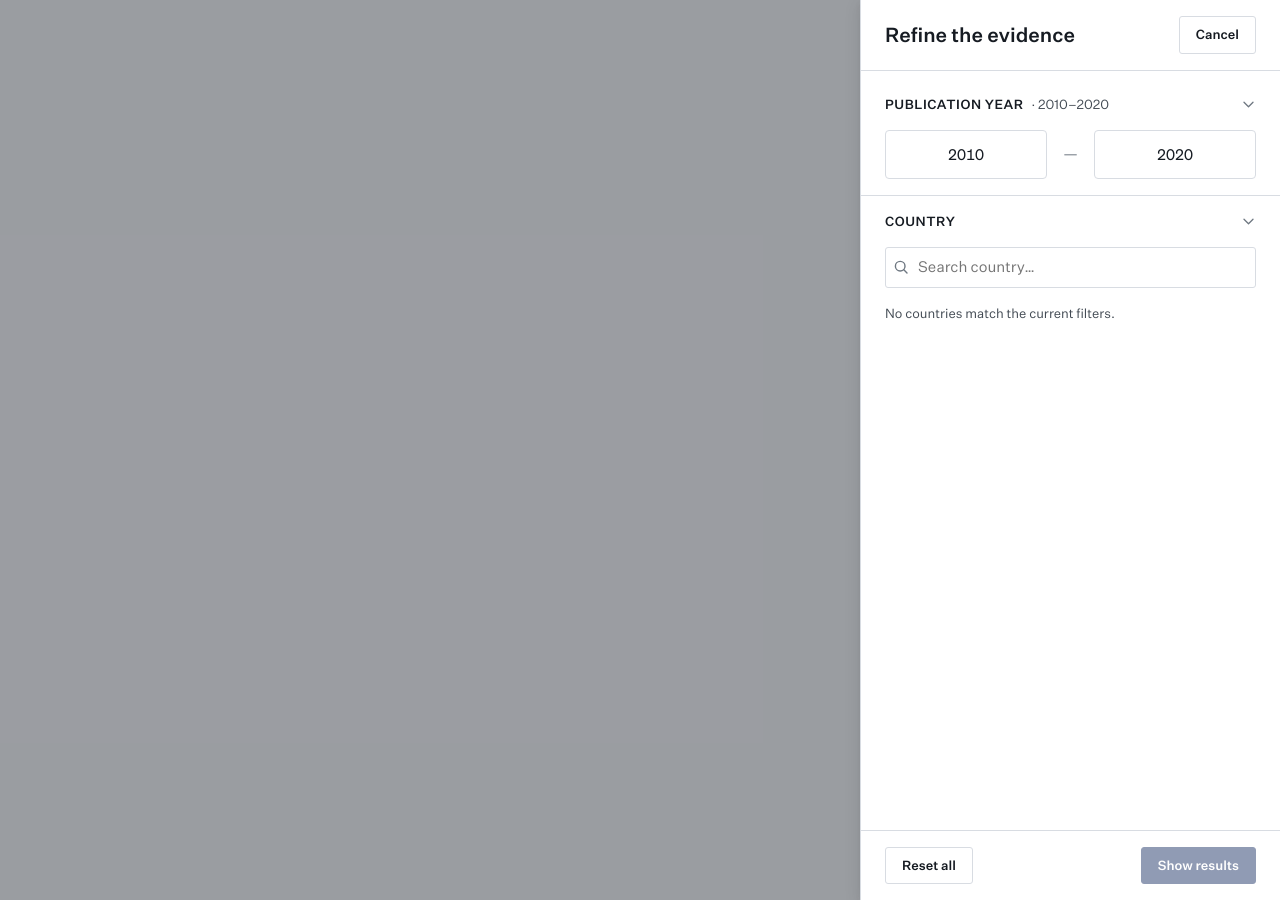
Test: FilterDrawer › year range integration › Reset clears year inputs alongside facet drafts
This screenshot has width=1280, height=900.
Expected: the field named "Start year" holds "2010", [885,130,1047,178]
Click the button "Reset all".
click(929, 865)  # box [885,846,973,884]
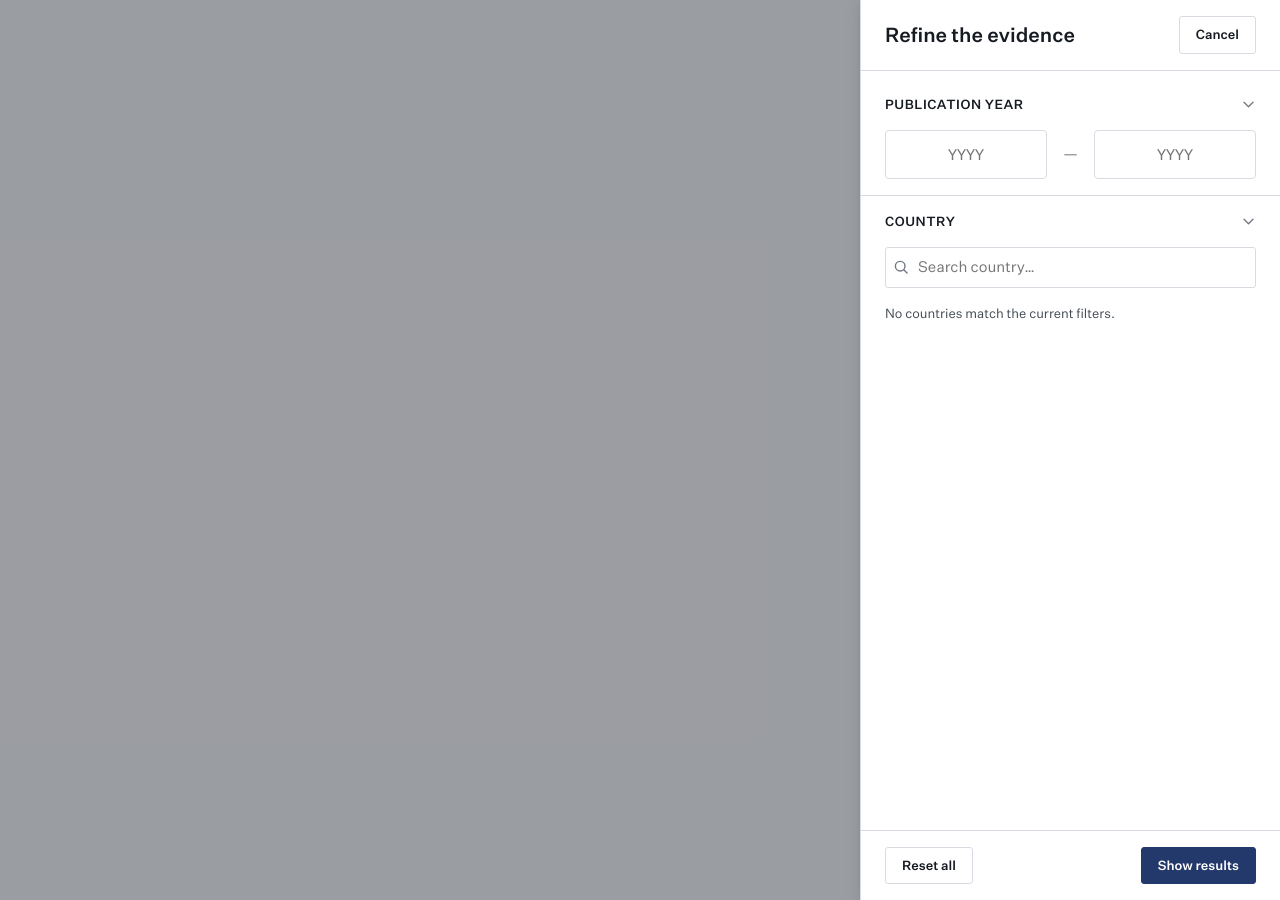
Now the field named "Start year" is empty, box [885,130,1047,178]
Now the field named "End year" is empty, box [1094,130,1256,178]
